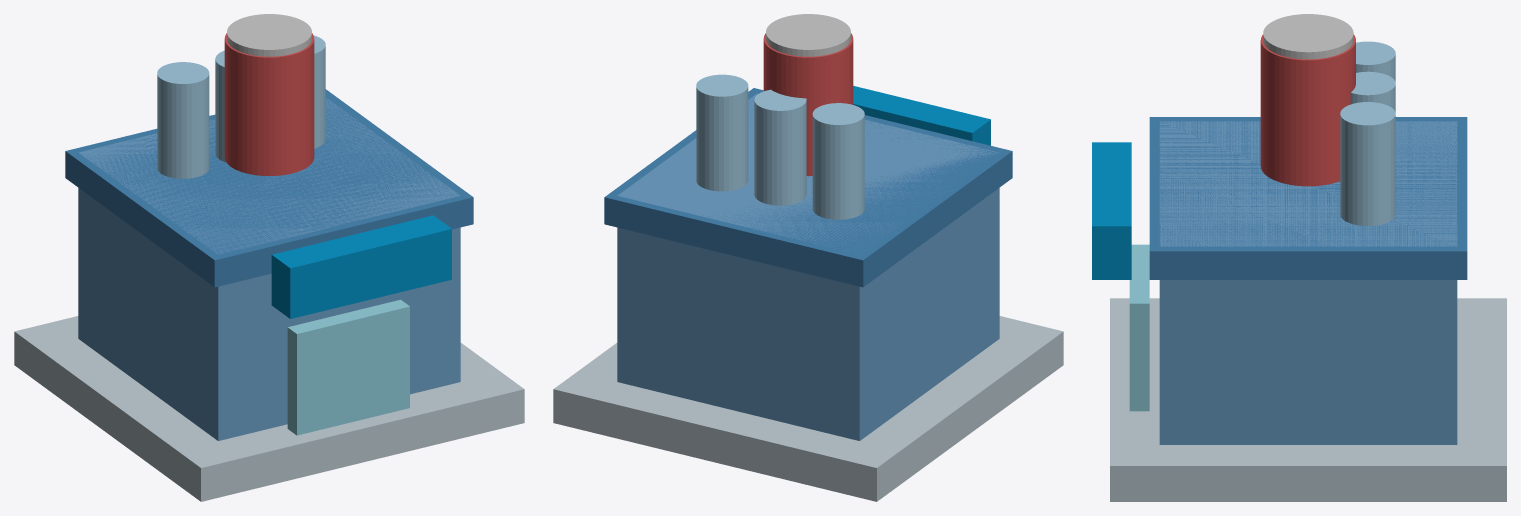
Rendered from fabrica_bebidas_1x1_citystyle.glb.
3 views of the same model, side by side, from view 1: azimuth 30°, elevation 25°; view 2: azimuth 150°, elevation 25°; view 3: azimuth 270°, elevation 25° (orthographic). The views are drawn at different scales.
Visible parts, largest first — view 1: world; view 2: world; view 3: world.
Boxes of the visible parts, <box> form: world: <box>14,14,524,501</box>; world: <box>553,14,1063,501</box>; world: <box>1092,14,1506,501</box>.
Bounding box in the file's own units: 1 × 1.07 × 1.04.
